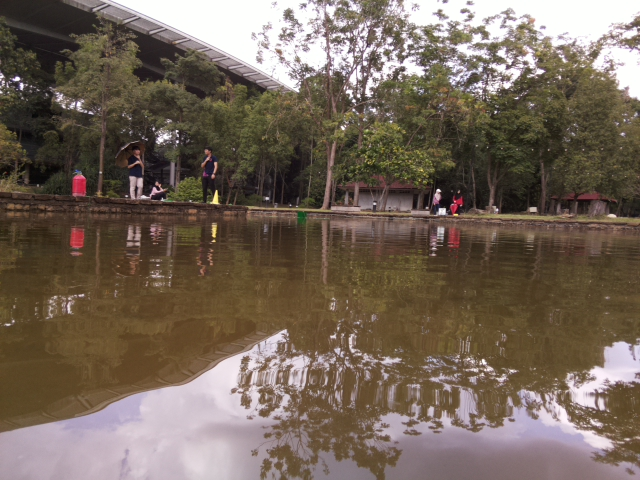checkpoint: (208, 188, 222, 206)
obstacle: (296, 210, 308, 218)
